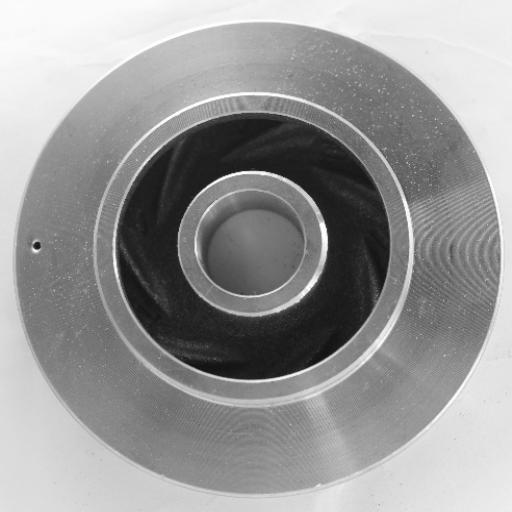pit: (28, 231, 51, 265)
unpolished_casting: (17, 20, 507, 498)
